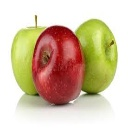apple: (11, 14, 54, 97)
